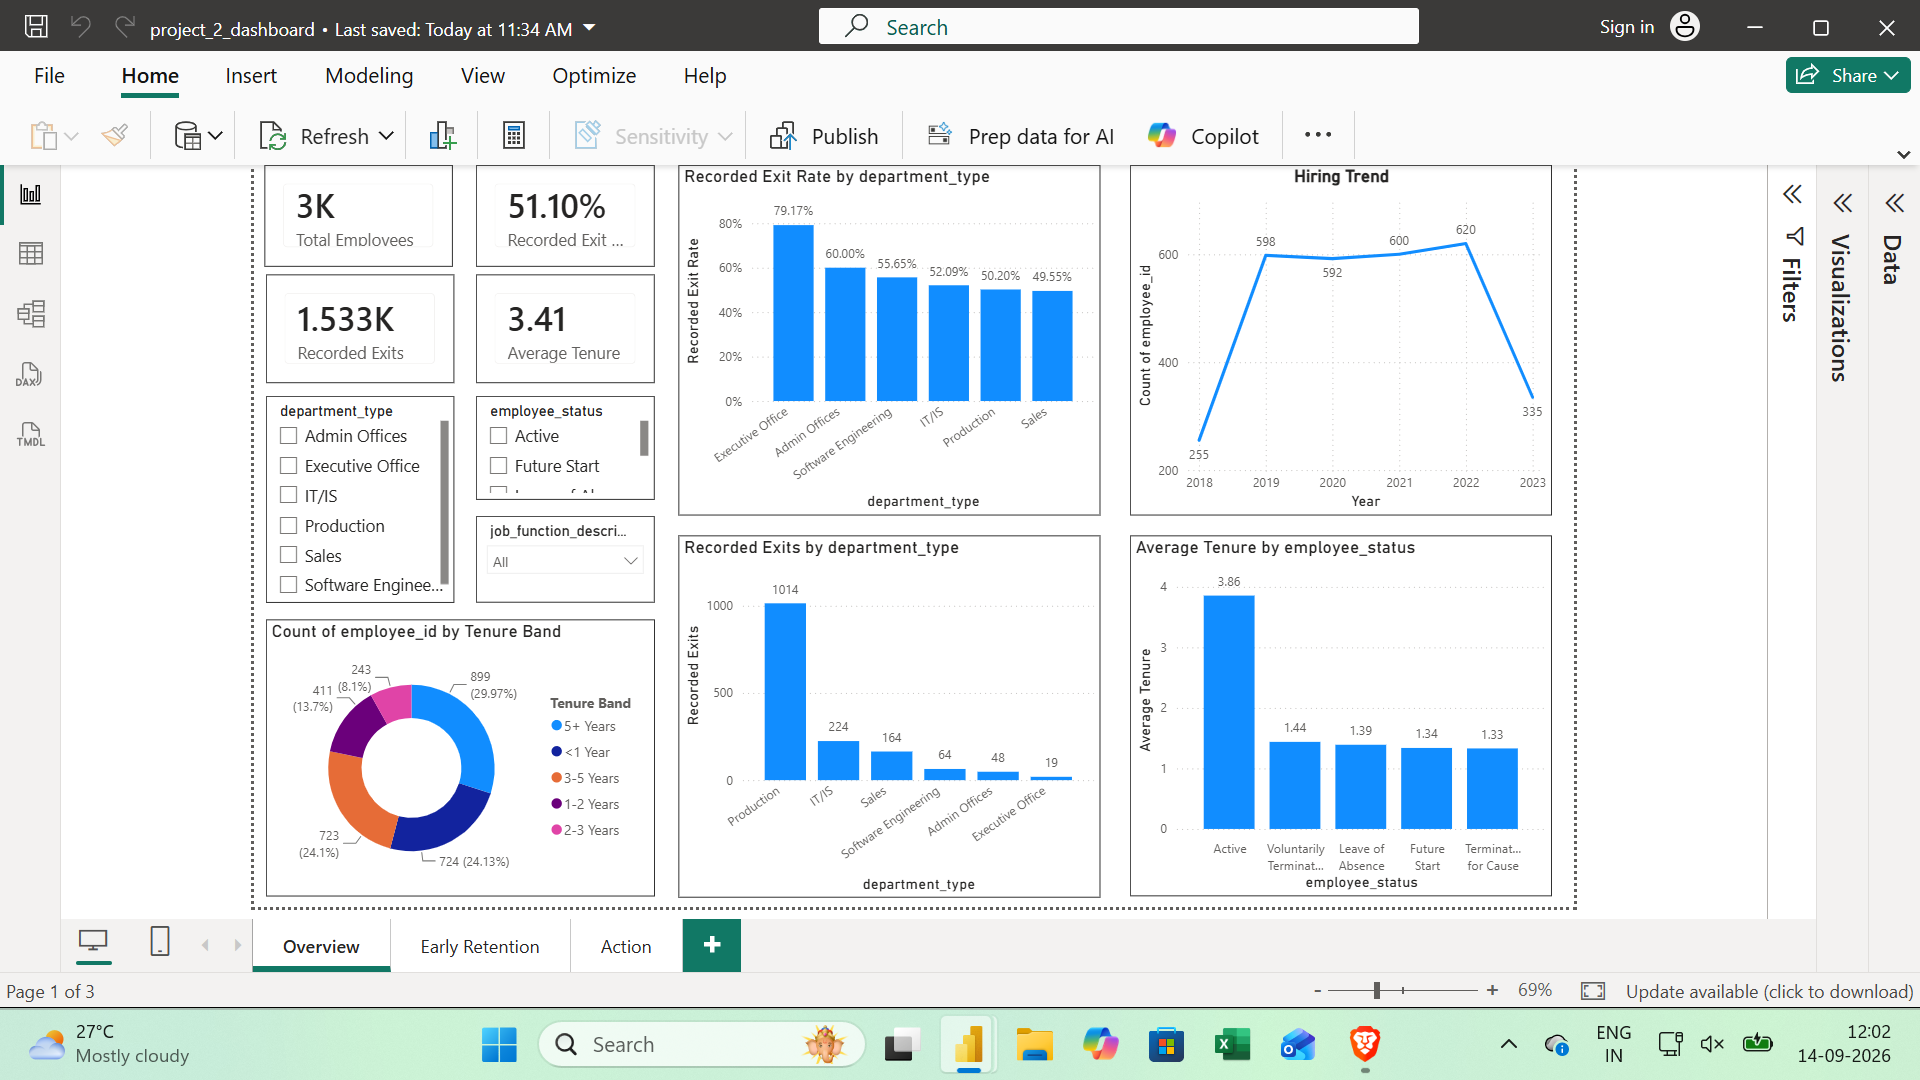

What the dashboard file says about the page in this screenshot:
{"tool":"powerbi","page":{"name":"Overview","canvas":[1280,720],"ordinal":0},"visuals":[{"type":"clusteredColumnChart","fields":{"Category":["employee_clean.department_type"],"Y":["employee_clean.Recorded Exit Rate"]},"box":[411.3,0,409.7,340],"z":0},{"type":"clusteredColumnChart","fields":{"Category":["employee_clean.department_type"],"Y":["employee_clean.Recorded Exits"]},"box":[411.3,359.5,409.7,351.4],"z":1000},{"type":"clusteredColumnChart","fields":{"Category":["employee_clean.employee_status"],"Y":["employee_clean.Average Tenure"]},"box":[850.1,359.5,409.7,349.8],"z":2000},{"type":"cardVisual","fields":{"Data":["employee_clean.Total Employees"]},"box":[9.7,0,183,98.8],"z":3000},{"type":"cardVisual","fields":{"Data":["employee_clean.Recorded Exits"]},"box":[11.3,106.9,183,105.2],"z":4000},{"type":"cardVisual","fields":{"Data":["employee_clean.Recorded Exit Rate"]},"box":[215.4,0,173.3,98.8],"z":5000},{"type":"cardVisual","fields":{"Data":["employee_clean.Average Tenure"]},"box":[215.4,106.9,173.3,105.2],"z":6000},{"type":"lineChart","title":"Hiring Trend","fields":{"Category":["employee_clean.start_date.Variation.Date Hierarchy.Year"],"Y":["CountNonNull(employee_clean.employee_id)"]},"box":[850.1,0,409.7,340],"z":7000},{"type":"slicer","fields":{"Values":["employee_clean.department_type"]},"box":[11.3,223.5,183,200.8],"z":8000},{"type":"slicer","fields":{"Values":["employee_clean.employee_status"]},"box":[215.4,223.5,173.3,100.4],"z":9000},{"type":"donutChart","fields":{"Category":["employee_clean.Tenure Band"],"Y":["CountNonNull(employee_clean.employee_id)"]},"box":[11.3,440.4,377.3,268.8],"z":10000},{"type":"slicer","fields":{"Values":["employee_clean.job_function_description"]},"box":[215.4,340,173.3,84.2],"z":11000}]}

Visuals, with their boxes on the page's 1280x720 design canvas (x1, y1, x2, y2). These are canvas units, not pixel positions in the 1920x1080 screenshot, which may show the page scaled, cropped or inside an application window:
clusteredColumnChart - employee_clean.department_type x employee_clean.Recorded Exit Rate: l=411, t=0, r=821, b=340
clusteredColumnChart - employee_clean.department_type x employee_clean.Recorded Exits: l=411, t=360, r=821, b=711
clusteredColumnChart - employee_clean.employee_status x employee_clean.Average Tenure: l=850, t=360, r=1260, b=709
cardVisual - employee_clean.Total Employees: l=10, t=0, r=193, b=99
cardVisual - employee_clean.Recorded Exits: l=11, t=107, r=194, b=212
cardVisual - employee_clean.Recorded Exit Rate: l=215, t=0, r=389, b=99
cardVisual - employee_clean.Average Tenure: l=215, t=107, r=389, b=212
"Hiring Trend" lineChart: l=850, t=0, r=1260, b=340
slicer - employee_clean.department_type: l=11, t=224, r=194, b=424
slicer - employee_clean.employee_status: l=215, t=224, r=389, b=324
donutChart - employee_clean.Tenure Band x CountNonNull(employee_clean.employee_id): l=11, t=440, r=389, b=709
slicer - employee_clean.job_function_description: l=215, t=340, r=389, b=424
